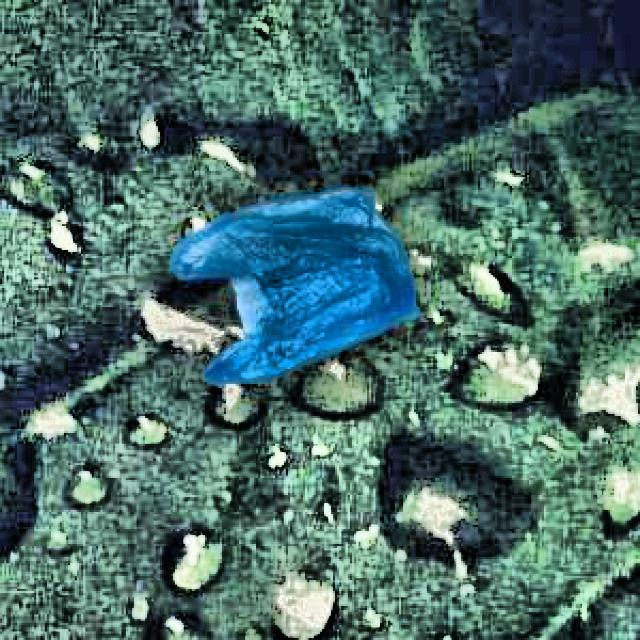Plastic: (181, 176, 421, 390)
